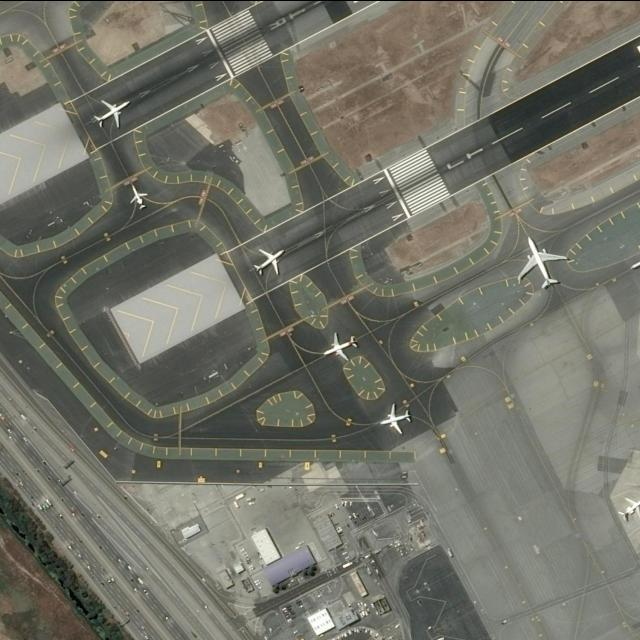Aircraft: (518, 236, 572, 292), (93, 97, 136, 131), (253, 245, 291, 279), (377, 404, 416, 436), (325, 333, 363, 363), (618, 492, 640, 525), (129, 185, 153, 212)
